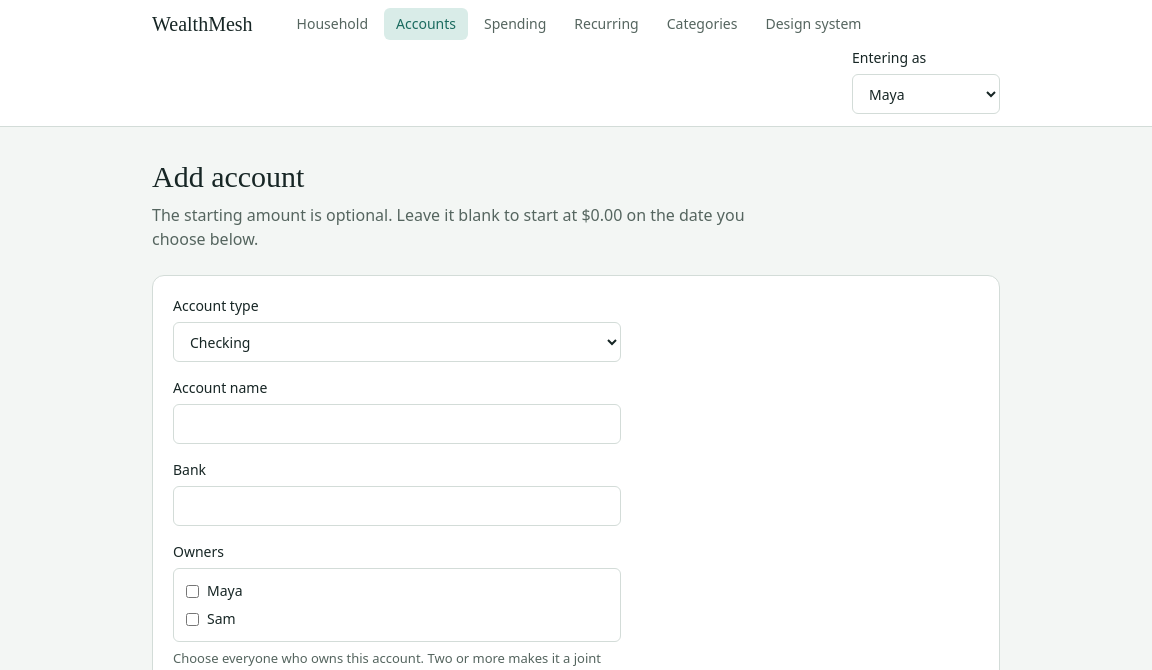
Test: adding a defined benefit › V2_DB_002 a blank starting amount is reviewed and saved as $0.00 with a note that the promise is not recorded
Select "Defined benefit" in the dropdown labelled "Account type" at coordinates (397, 342), box [173,322,621,362]
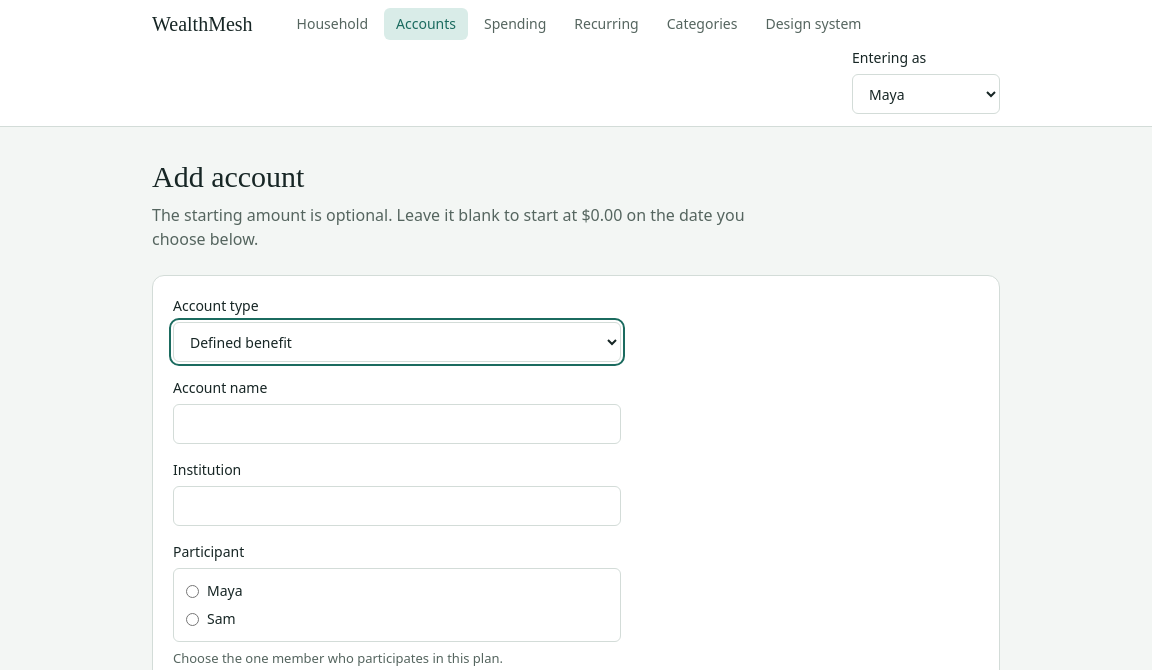
Type "Harbor Cash Balance" into the field labelled "Account name" at coordinates (397, 424), box [173,404,621,444]
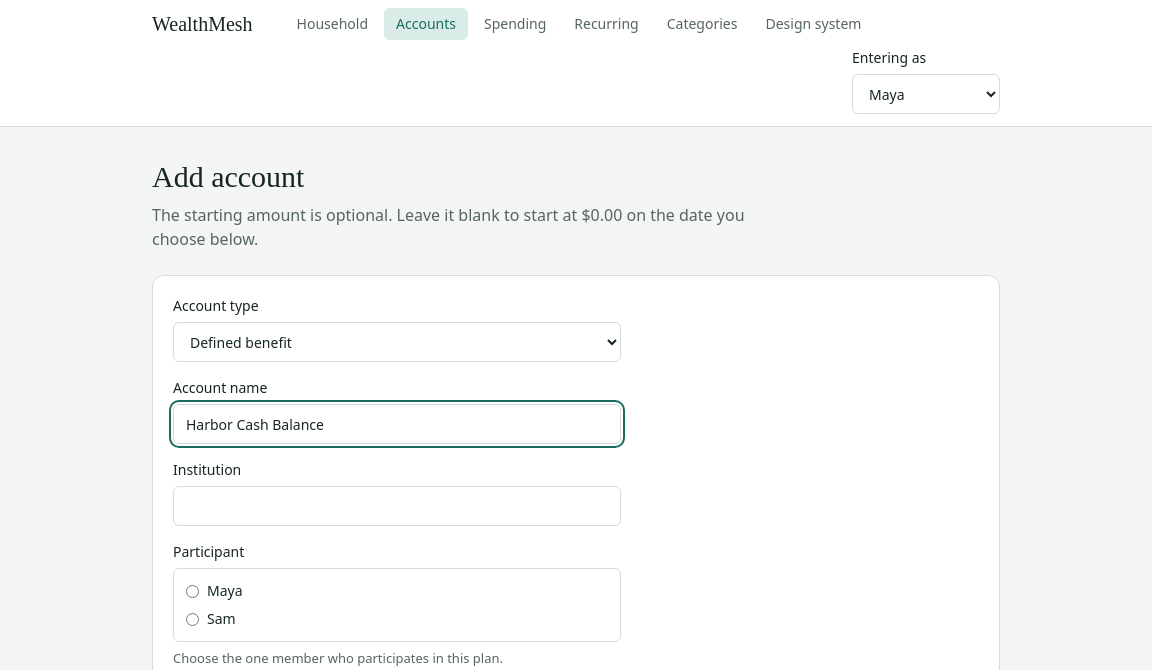
Type "Harbor Benefits" into the field labelled "Institution" at coordinates (397, 506), box [173,486,621,526]
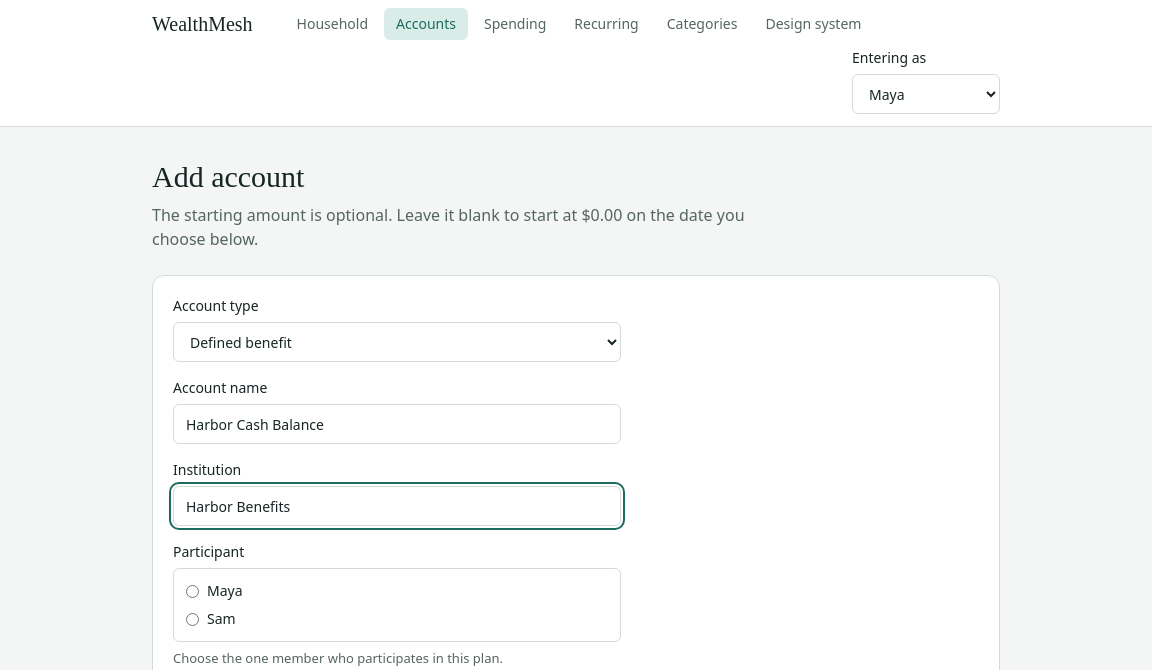
Click the radio button labelled "Sam" at coordinates (192, 619), box [186,612,199,626]
(page scrolled)
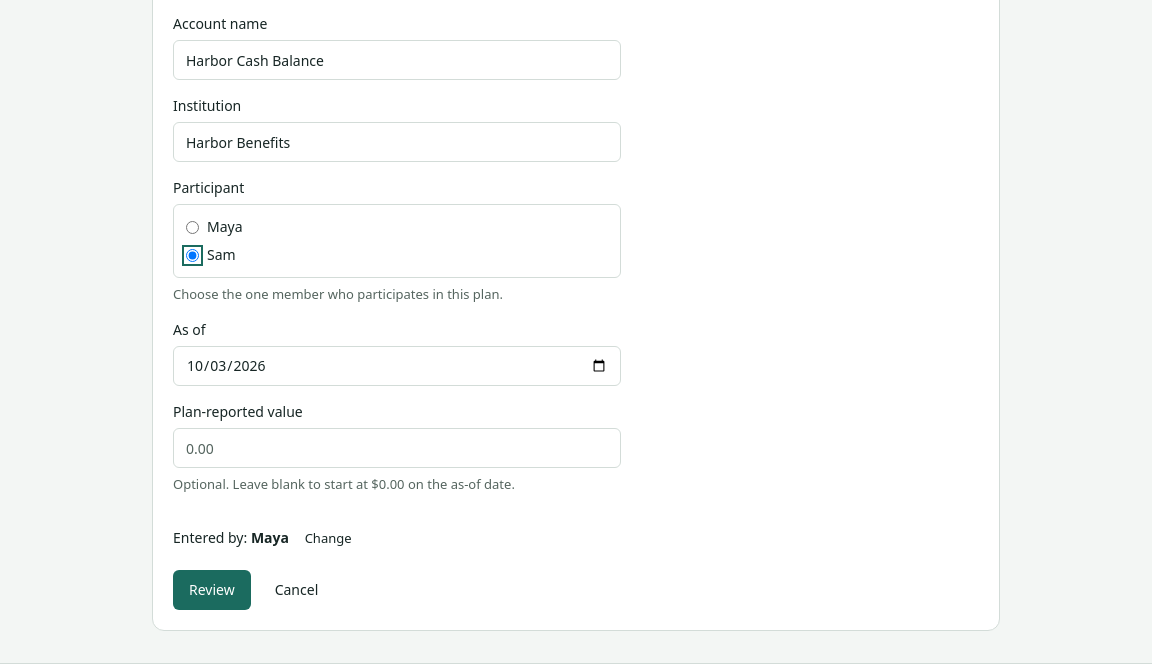
Type "2026-09-01" into the date field labelled "As of" at coordinates (397, 366), box [173,346,621,386]
Click the button "Review" at coordinates (212, 590), box [173,570,251,610]
(page scrolled)
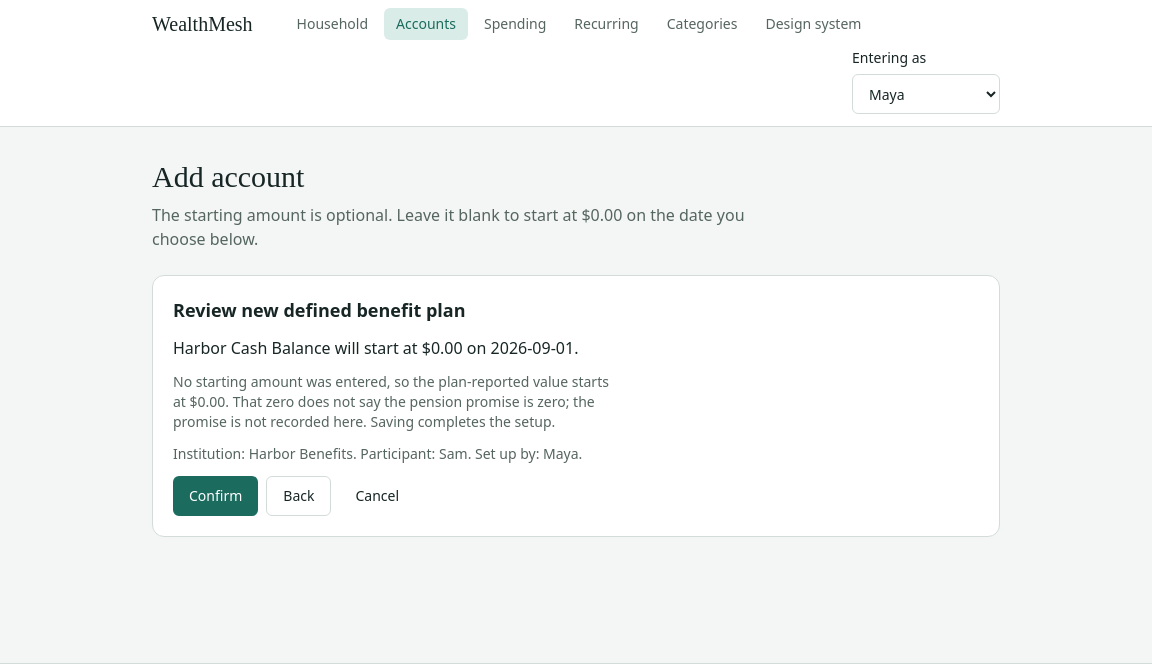
expect the text "No starting amount was entered, so the plan-reported value starts at $0.00." shows "That zero does not say the pension promise is zero": met, box [173,372,609,431]
Click the button "Confirm" at coordinates (216, 496), box [173,476,258,516]
(page scrolled)
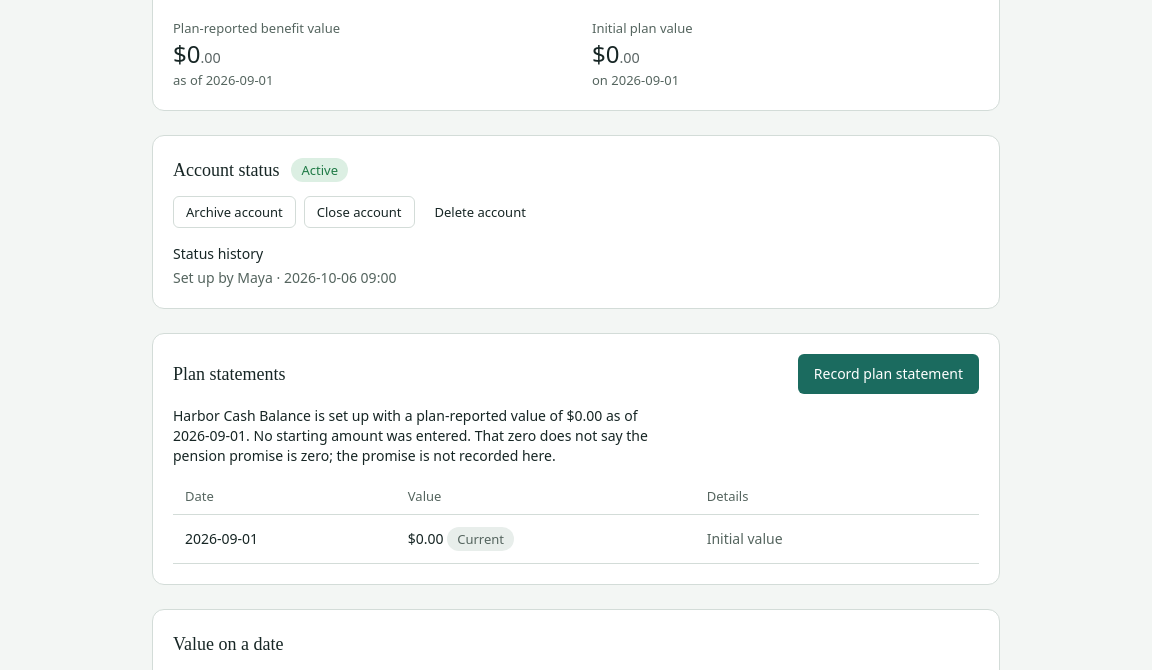
expect the message shows "No starting amount was entered.": met, box [173,426,648,465]
expect the message shows "does not say the pension promise is zero": met, box [173,426,648,465]
